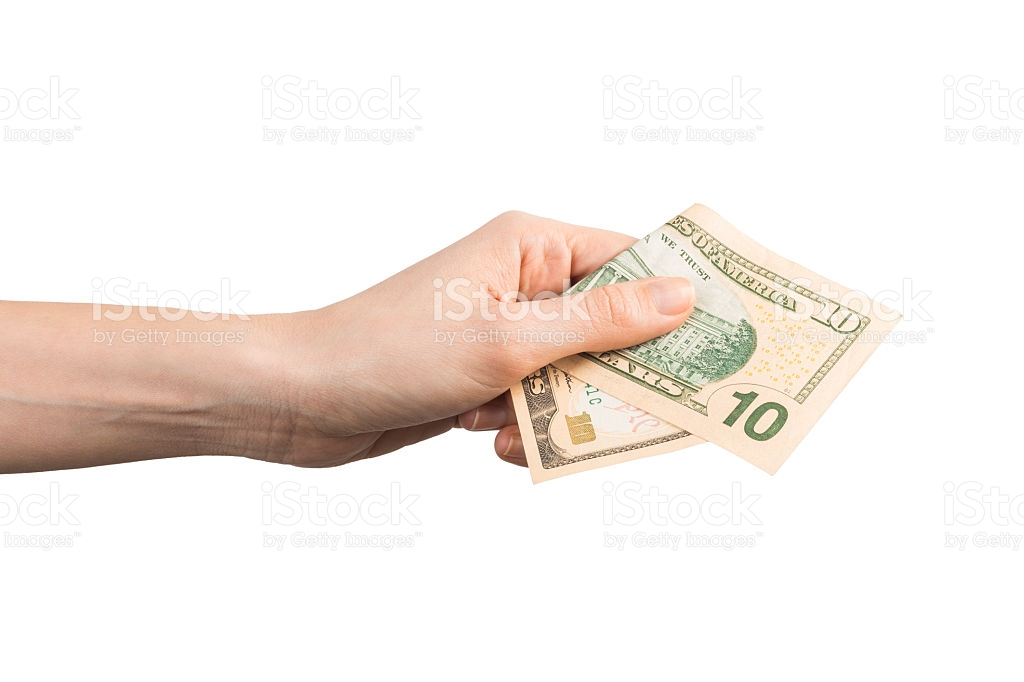billete: (502, 200, 910, 486)
